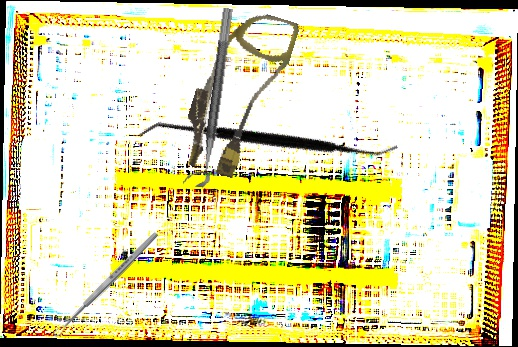Cannula: (174, 0, 301, 185)
Fixation Ring: (183, 5, 234, 189)
Spatula Surgical: (137, 32, 400, 250)
Surgical Spoon: (51, 230, 160, 339)
